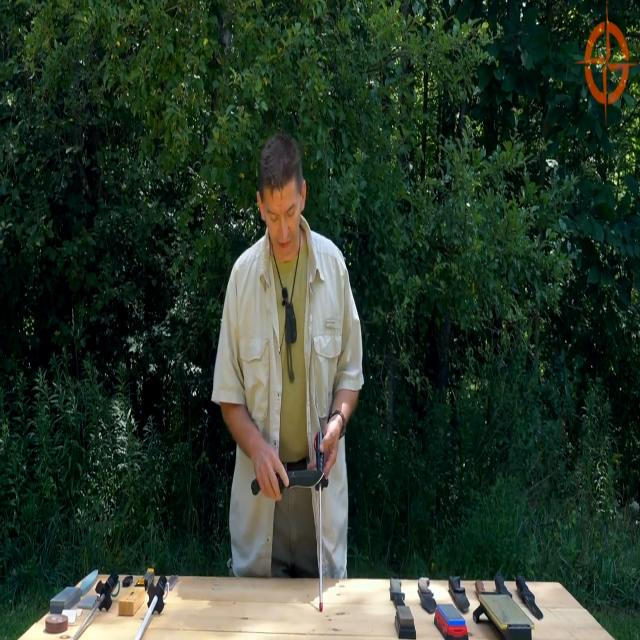knife: (514, 572, 548, 624), (283, 464, 329, 499), (445, 570, 473, 615), (415, 574, 439, 621)
